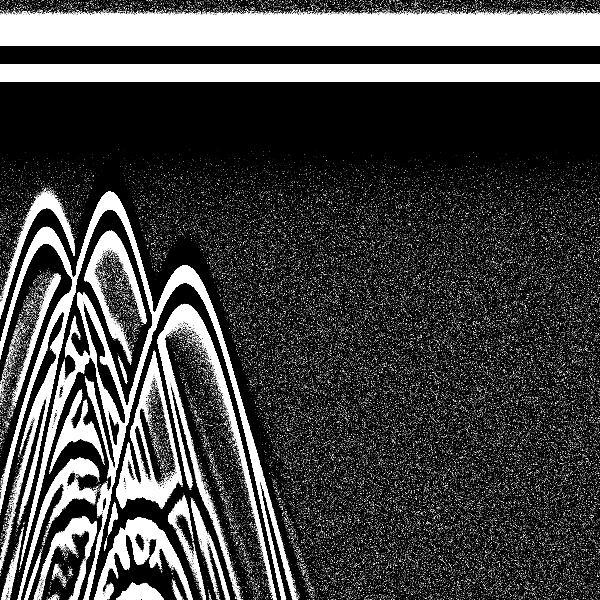pipe: (132, 4, 241, 360), (70, 5, 156, 281), (2, 5, 84, 277)
